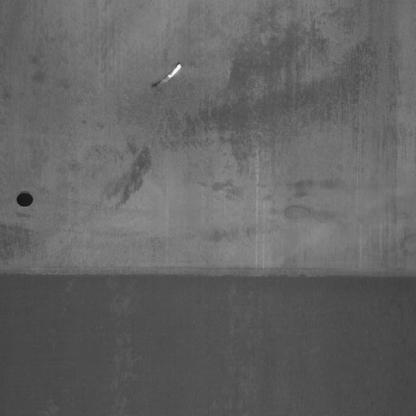punching_hole: (12, 190, 36, 212)
welding_line: (0, 260, 415, 292)
